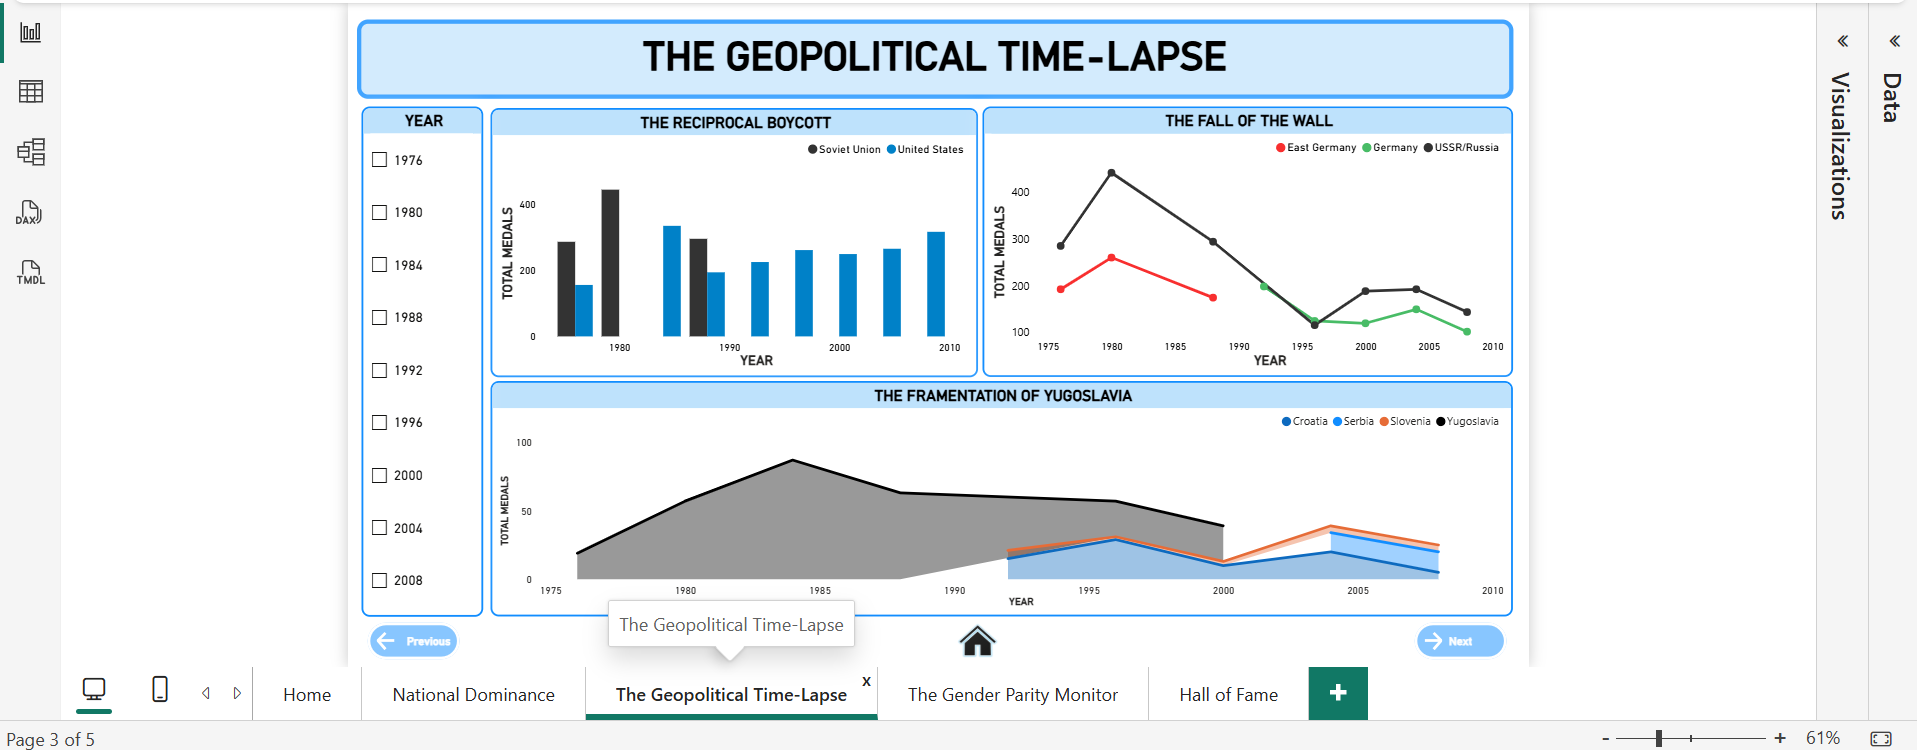

Layout of this report page (visuals, bound fields, positions):
{"tool":"powerbi","page":{"name":"The Geopolitical Time-Lapse","canvas":[1280,720],"ordinal":2},"visuals":[{"type":"textbox","box":[9.8,17.9,1254.1,86.2],"z":0},{"type":"clusteredColumnChart","title":"THE RECIPROCAL BOYCOTT","fields":{"Category":["Medals.Year"],"Y":["Medals.Total Medals"],"Series":["Medals.Country"]},"box":[155,113.3,528.3,291.7],"z":1000},{"type":"lineChart","title":"THE FALL OF THE WALL","fields":{"Category":["Medals.Year"],"Y":["Medals.Total Medals"],"Series":["Medals.Country_Legacy"]},"box":[688.3,111.7,575,293.3],"z":2000},{"type":"stackedAreaChart","title":"THE FRAMENTATION OF YUGOSLAVIA","fields":{"Category":["Medals.Year"],"Y":["Medals.Total Medals"],"Series":["Medals.Country"]},"box":[155,410,1108.3,255],"z":3000},{"type":"listSlicer","fields":{"Values":["Medals.Year"]},"box":[15,111.7,131.7,553.3],"z":4000},{"type":"actionButton","box":[21.7,671.7,100,40],"z":5000},{"type":"actionButton","box":[1156.7,671.7,100,40],"z":6000},{"type":"image","box":[655,671.7,55,38.3],"z":7001}]}

Visuals, with their boxes on the page's 1280x720 design canvas (x1, y1, x2, y2). These are canvas units, not pixel positions in the 1917x750 screenshot, which may show the page scaled, cropped or inside an application window:
textbox: locate(10, 18, 1264, 104)
"THE RECIPROCAL BOYCOTT" clusteredColumnChart: locate(155, 113, 683, 405)
"THE FALL OF THE WALL" lineChart: locate(688, 112, 1263, 405)
"THE FRAMENTATION OF YUGOSLAVIA" stackedAreaChart: locate(155, 410, 1263, 665)
listSlicer - Medals.Year: locate(15, 112, 147, 665)
actionButton: locate(22, 672, 122, 712)
actionButton: locate(1157, 672, 1257, 712)
image: locate(655, 672, 710, 710)
